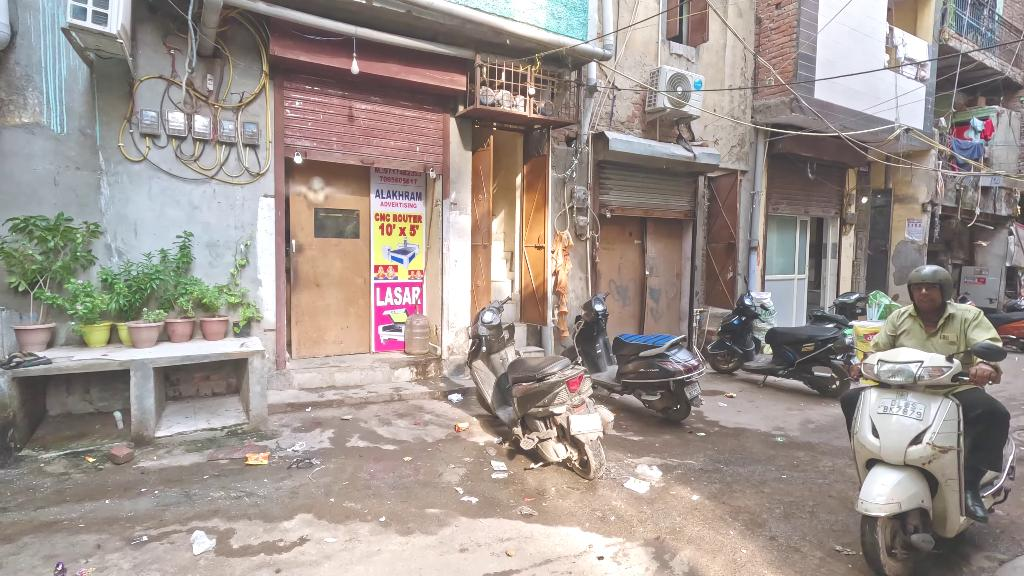garbage: (189, 528, 216, 557), (634, 460, 666, 477), (623, 477, 649, 493), (244, 451, 270, 465), (447, 391, 464, 404), (490, 459, 507, 470)
